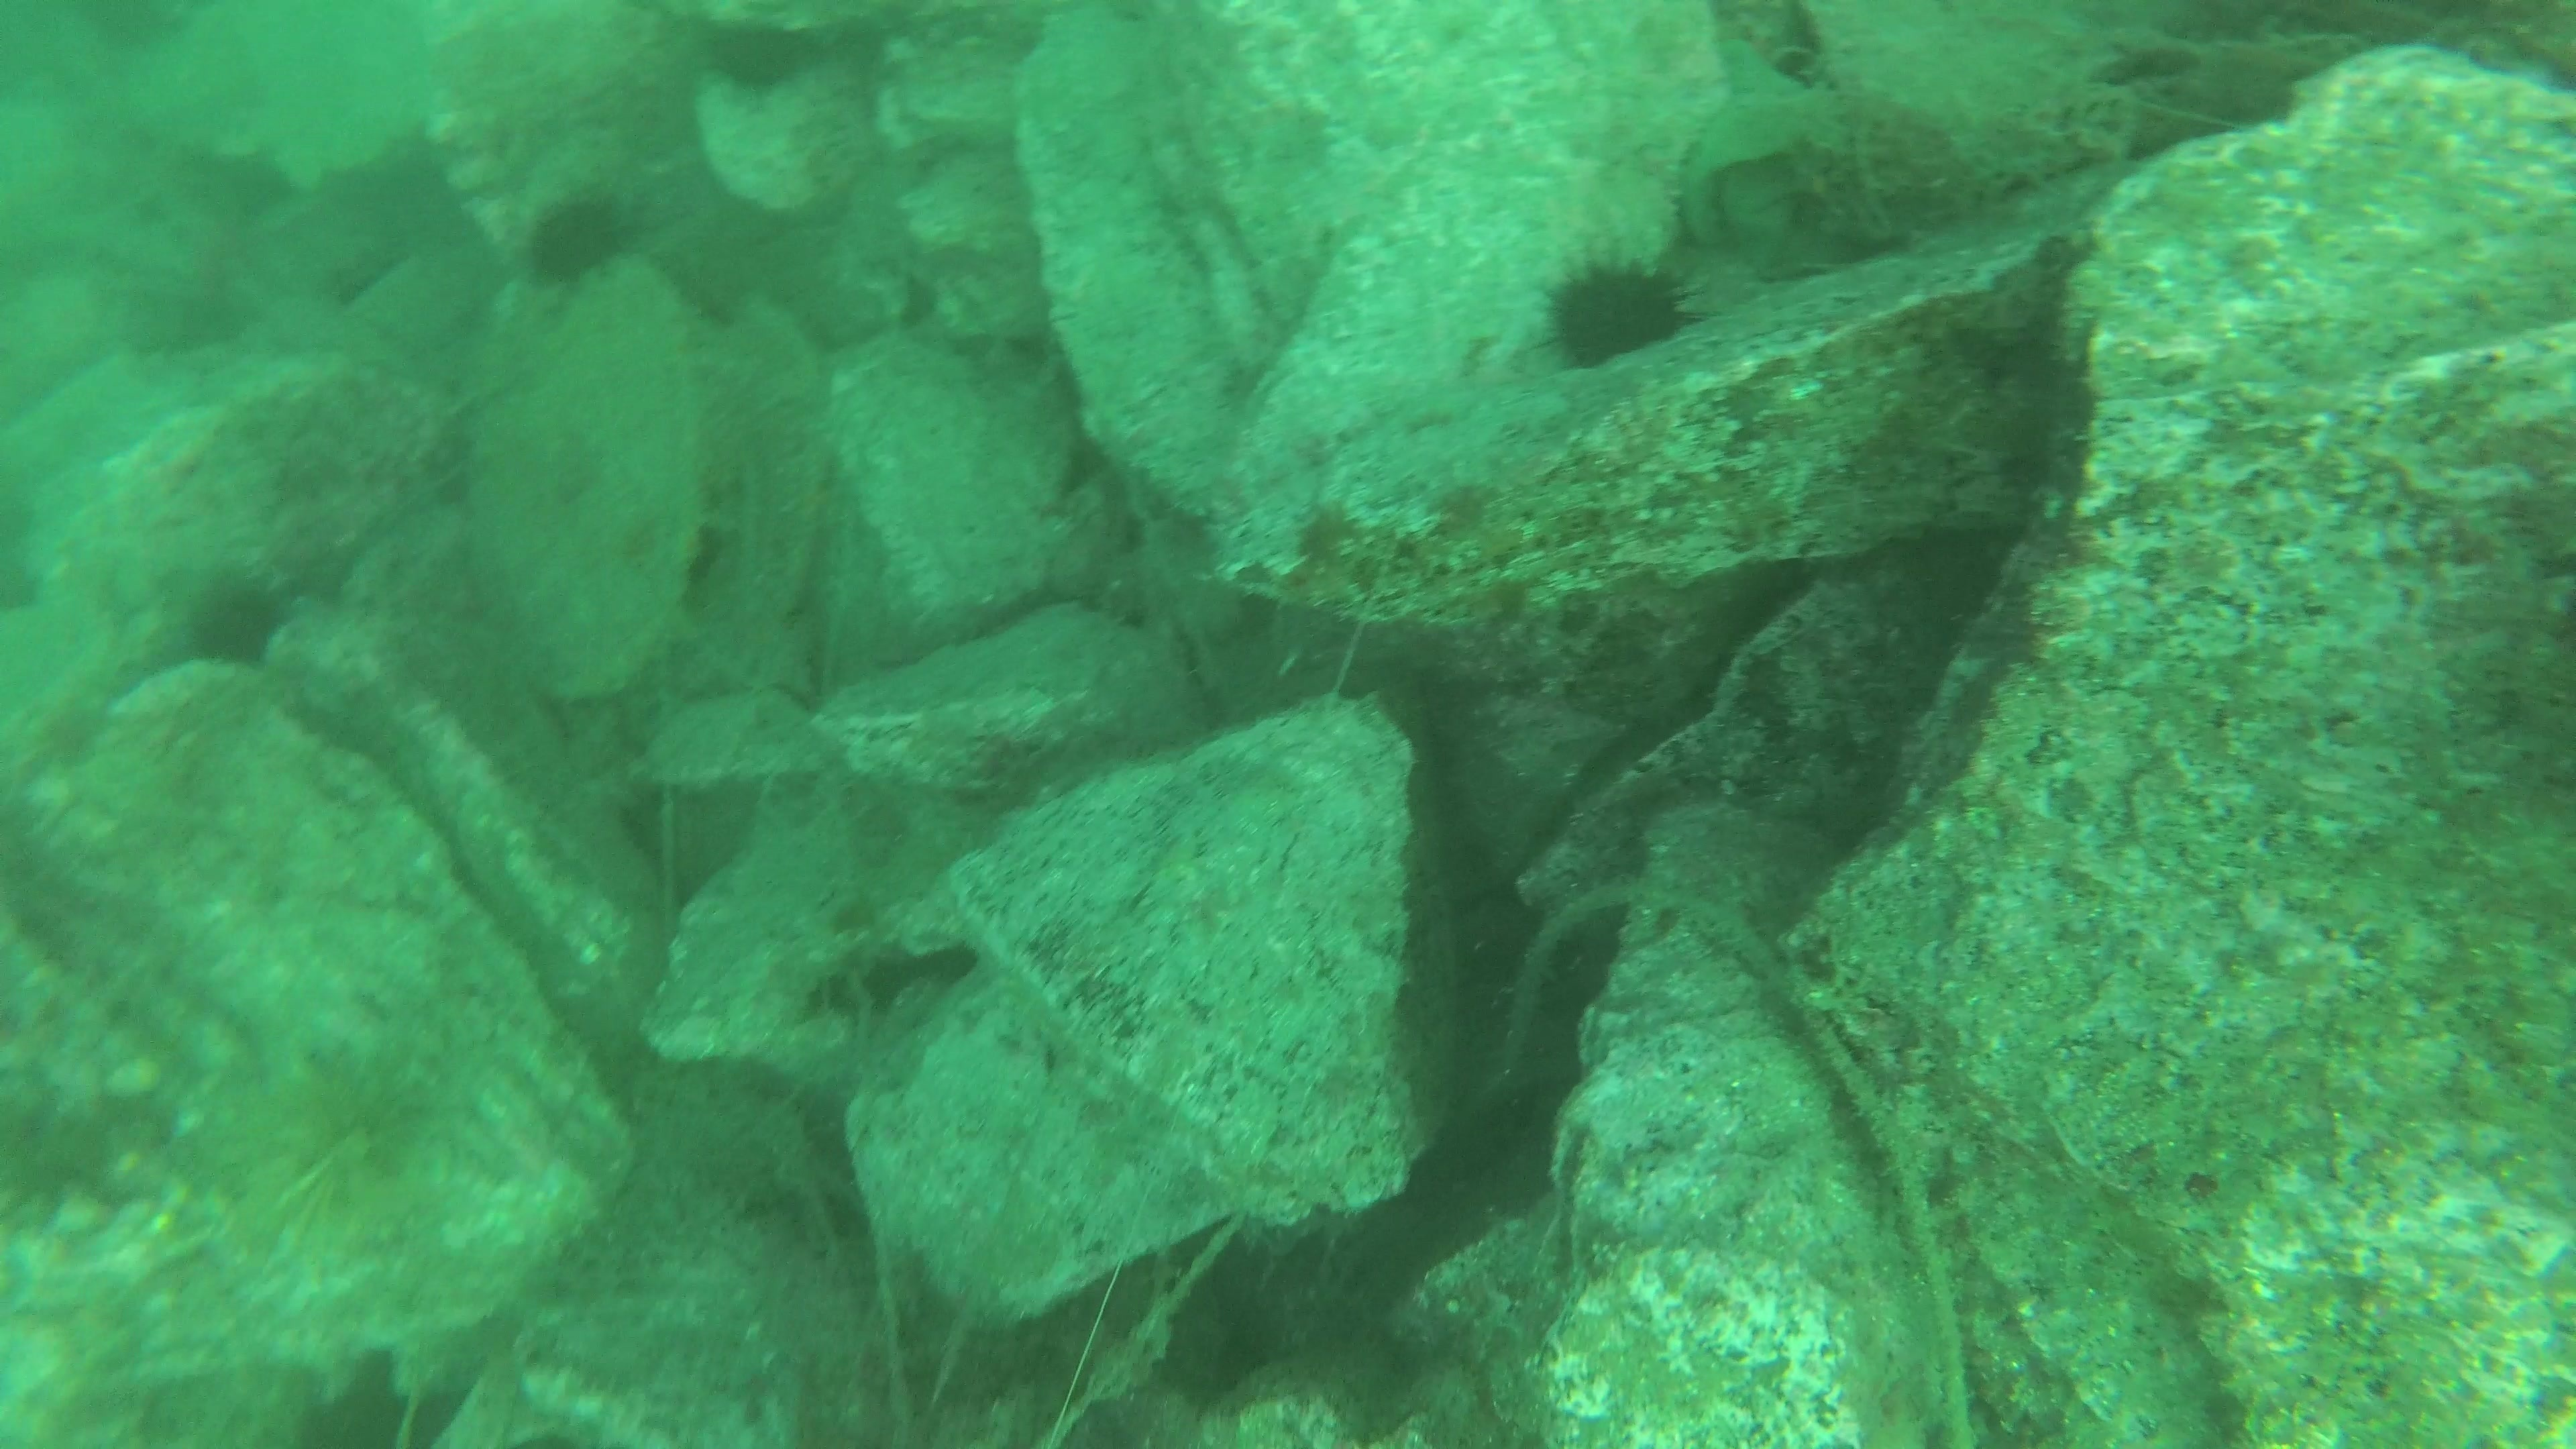echinus: (1536, 248, 1698, 372), (517, 184, 639, 292), (177, 570, 292, 676)
